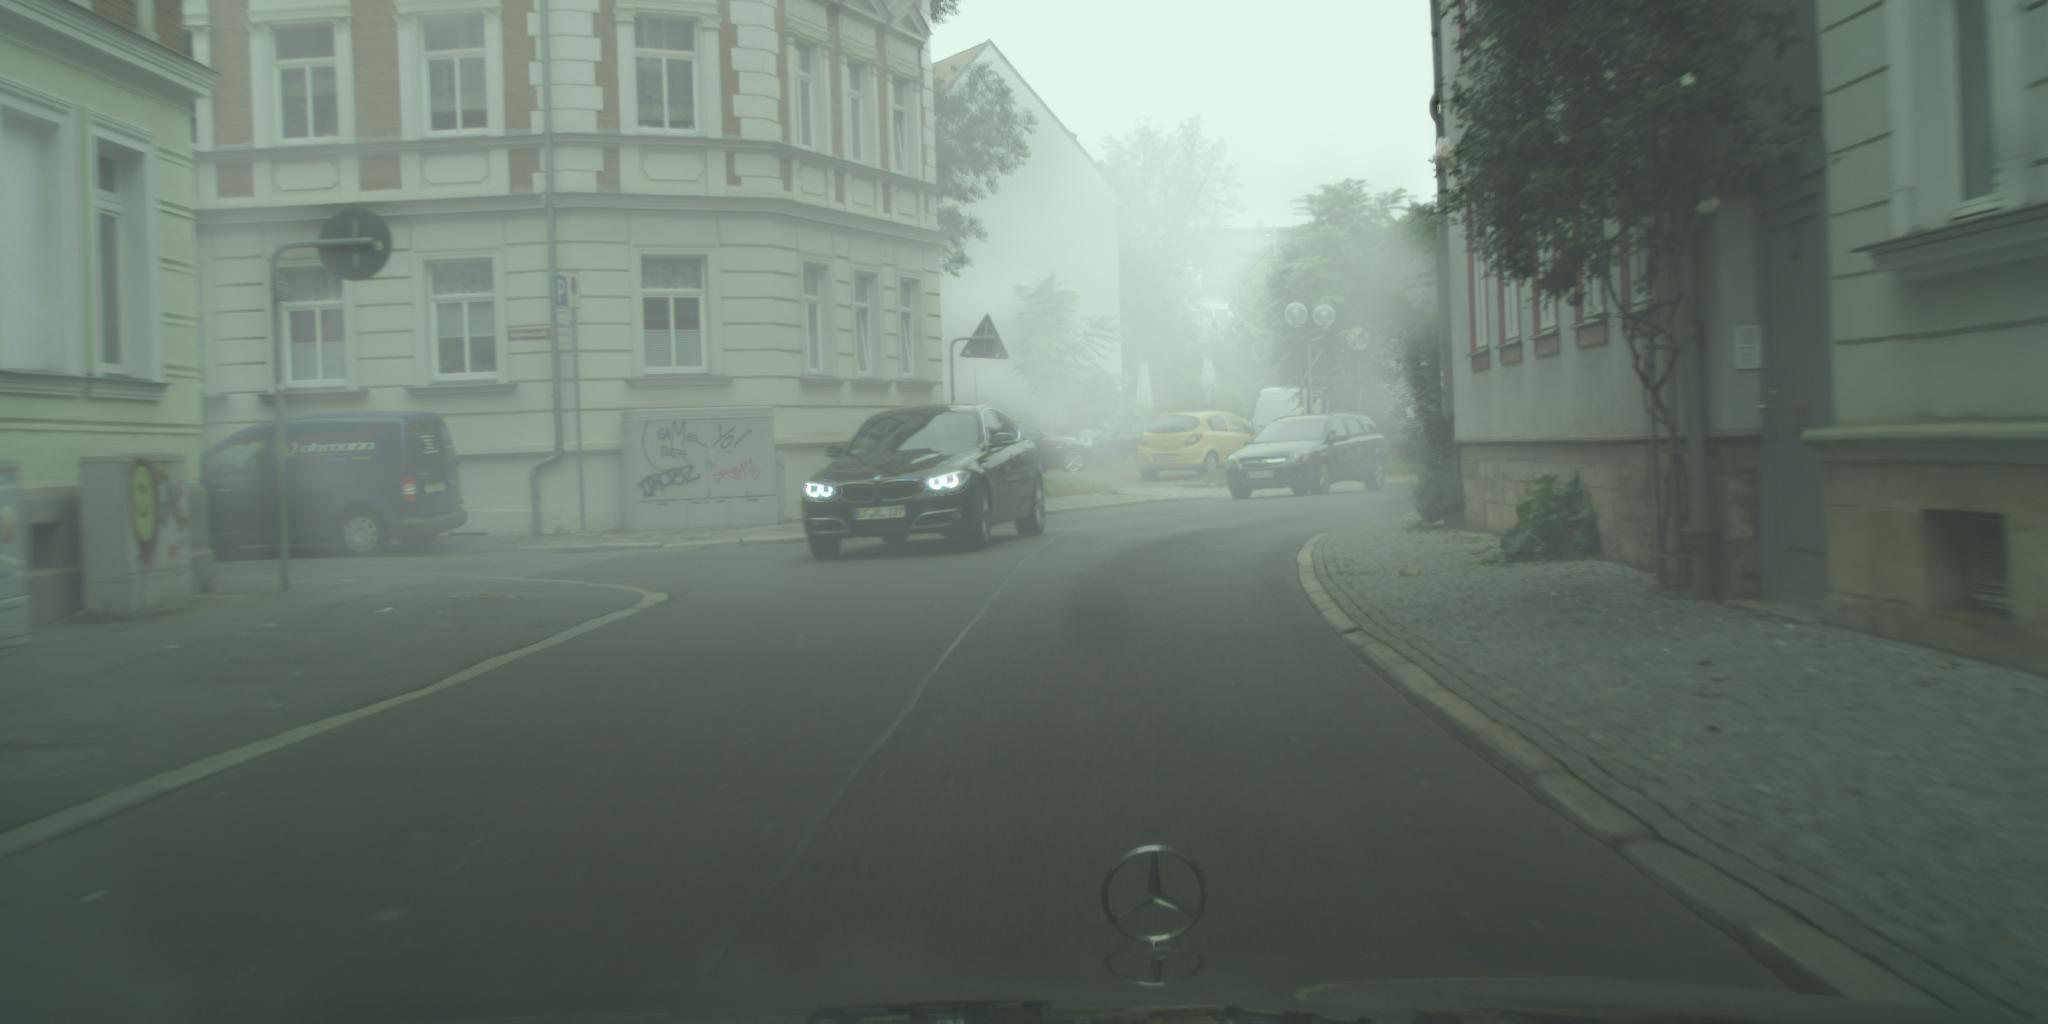car: (195, 411, 468, 567), (801, 404, 1048, 563), (1226, 411, 1387, 500), (1139, 411, 1263, 482), (1007, 421, 1093, 478), (1080, 422, 1160, 472), (1243, 388, 1307, 448), (1053, 424, 1125, 458)
